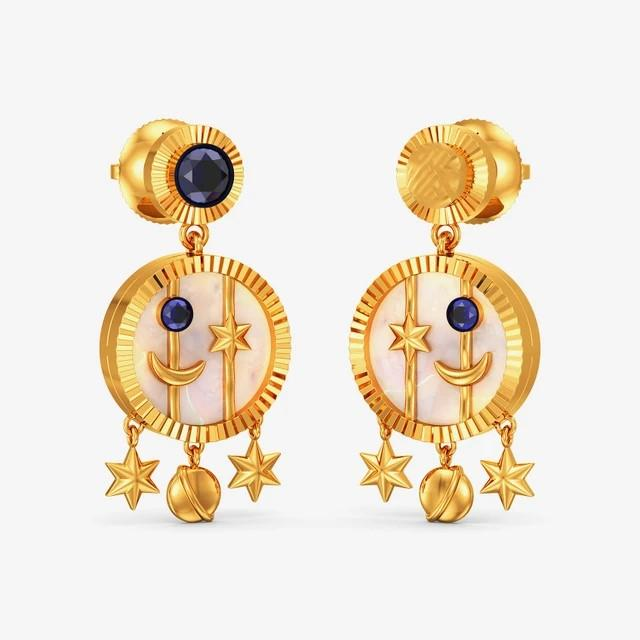missing gem: (407, 142, 464, 208)
